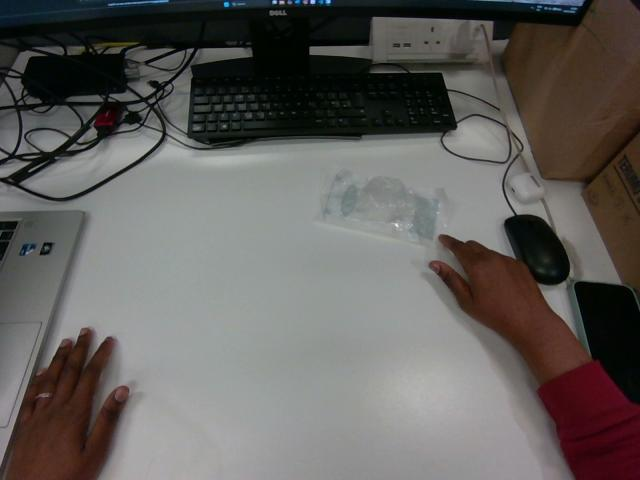gallipot: (321, 169, 447, 244)
